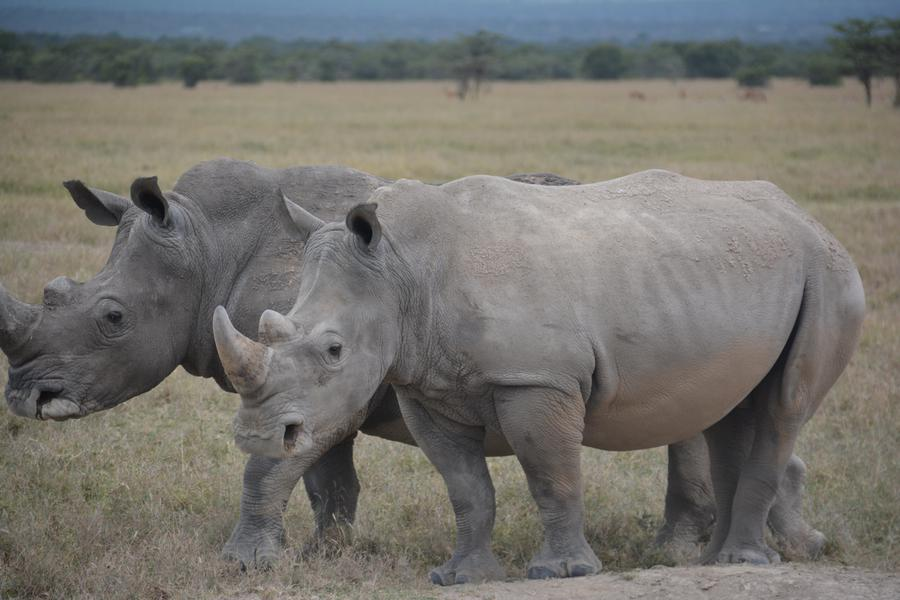rhino: (234, 198, 825, 489), (27, 154, 209, 363)
